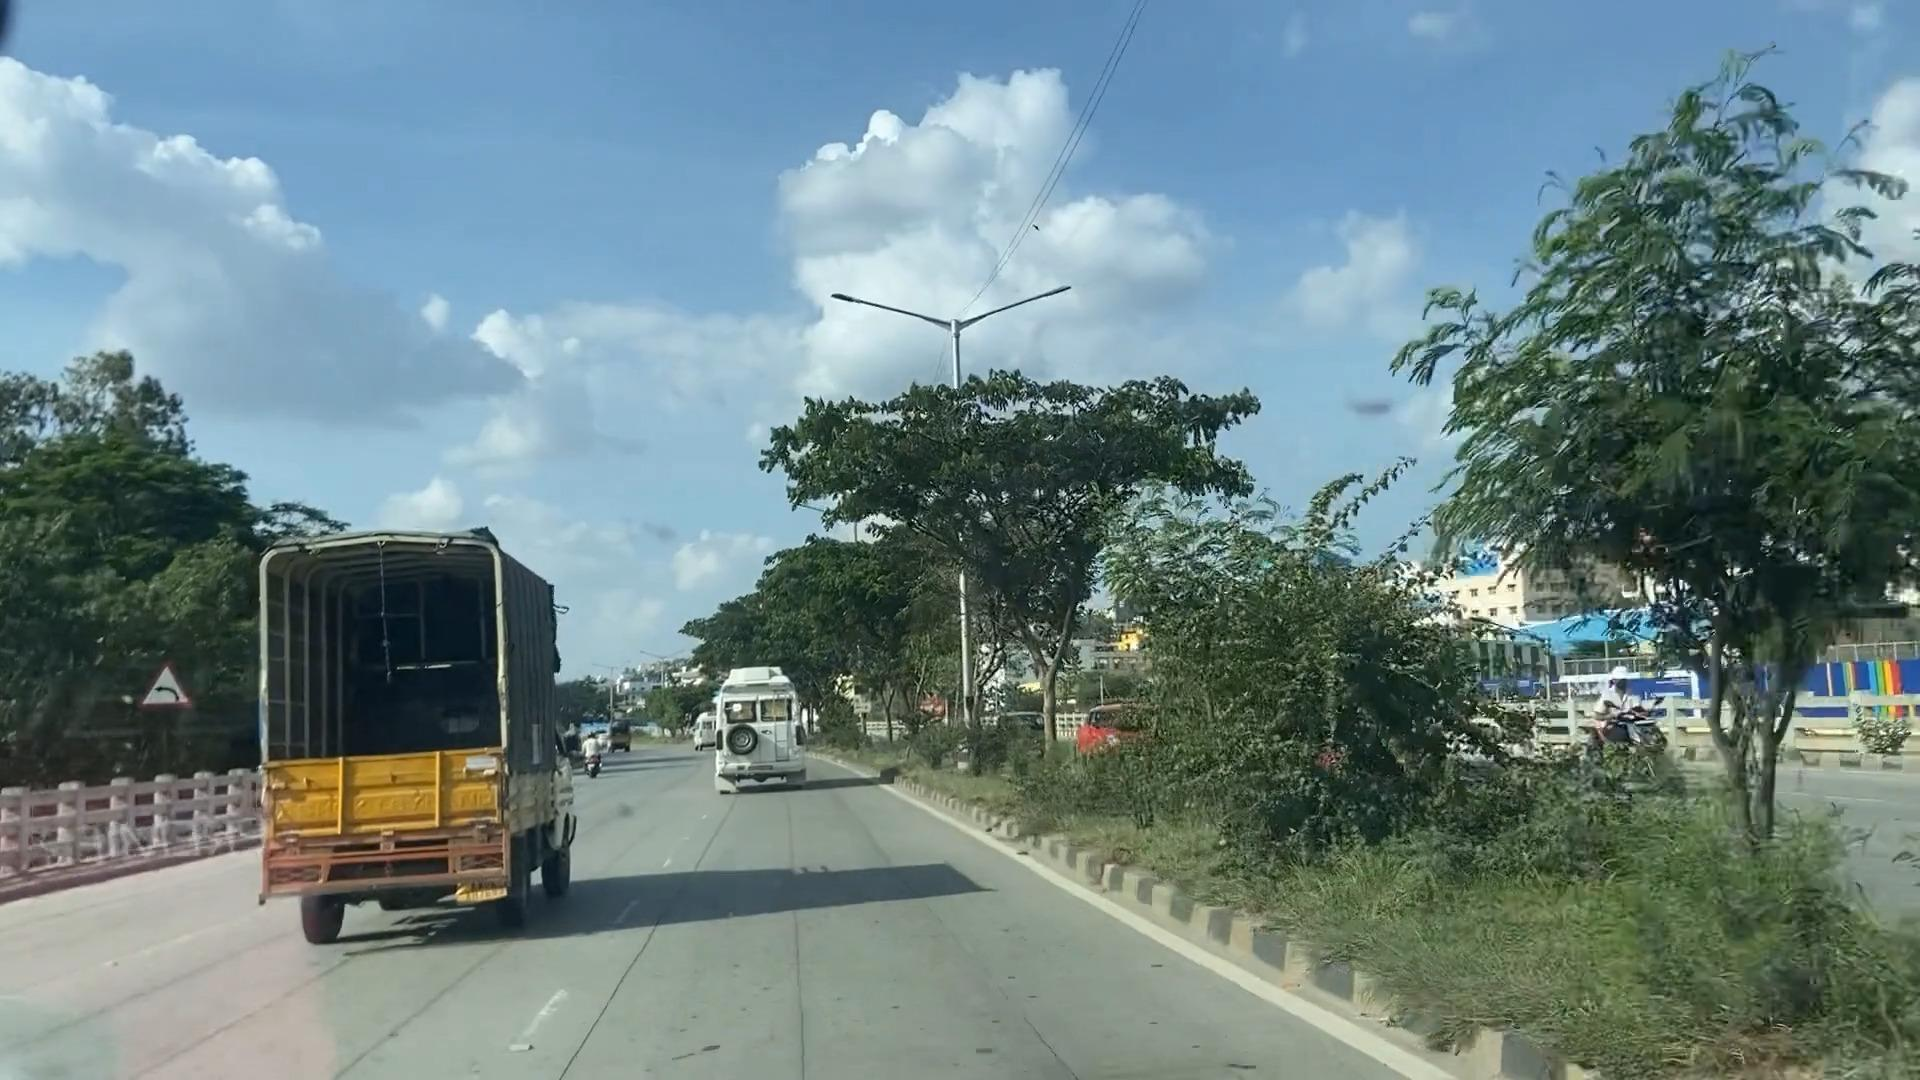HMV: (244, 502, 583, 949), (696, 630, 811, 795)
